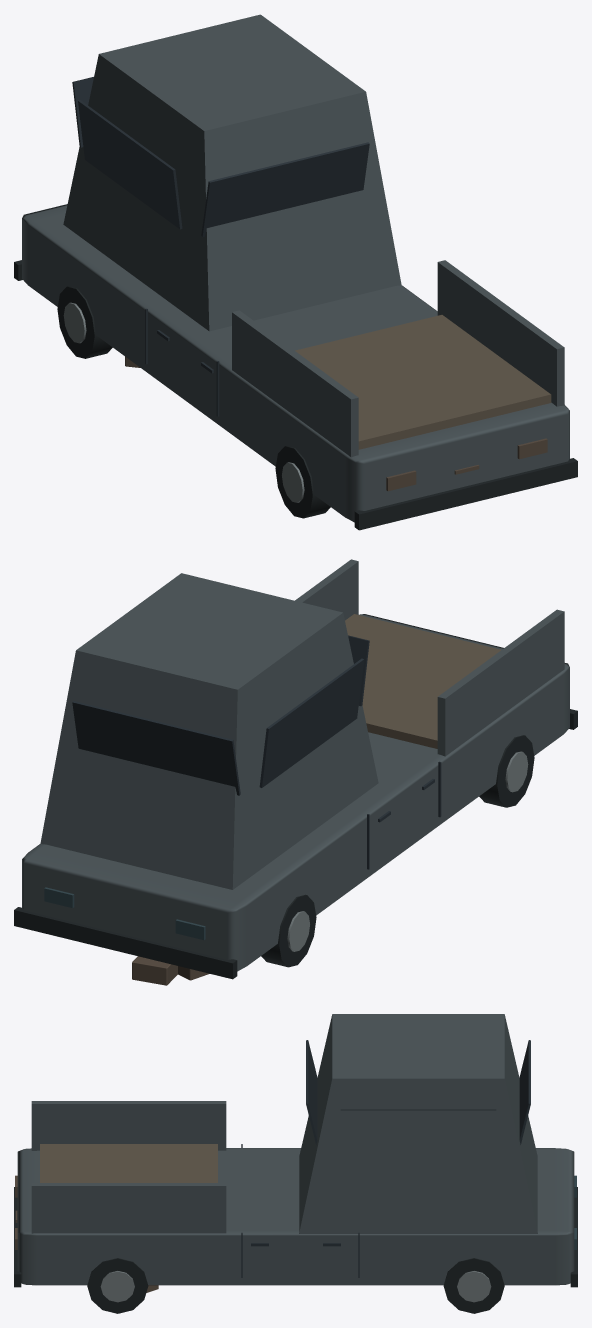
The model's file is small-truck-wreck-1.glb.
3 renders of one model, top to bottom at view 1: azimuth 30°, elevation 25°; view 2: azimuth 150°, elevation 25°; view 3: azimuth 270°, elevation 25°, orthographic. The views are drawn at different scales.
Parts seen in each view (by area): view 1: small-truck-wreck/0/KR-230-1; view 2: small-truck-wreck/0/KR-230-1; view 3: small-truck-wreck/0/KR-230-1.
Part boxes in pixels (left/top/right/bottom): small-truck-wreck/0/KR-230-1: left=14, top=14, right=577, bottom=530; small-truck-wreck/0/KR-230-1: left=14, top=559, right=577, bottom=985; small-truck-wreck/0/KR-230-1: left=14, top=1014, right=577, bottom=1313.
Bounding box in the file's own units: 2.37 × 2.8 × 6.28.
